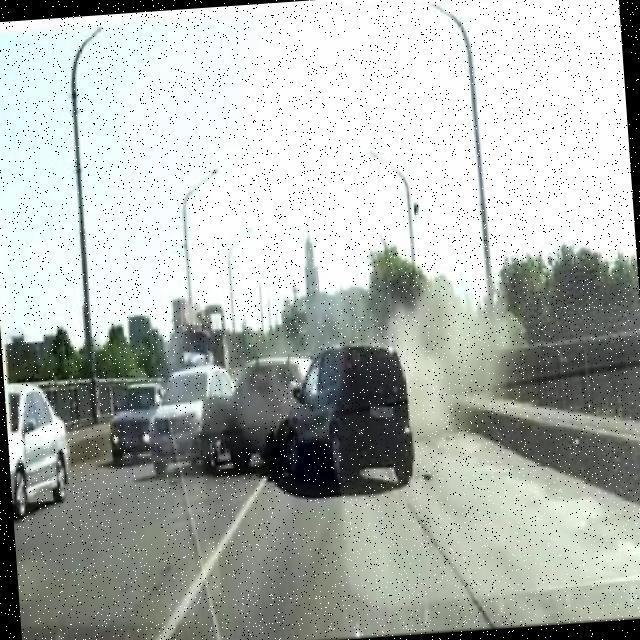accident: (221, 340, 418, 500)
